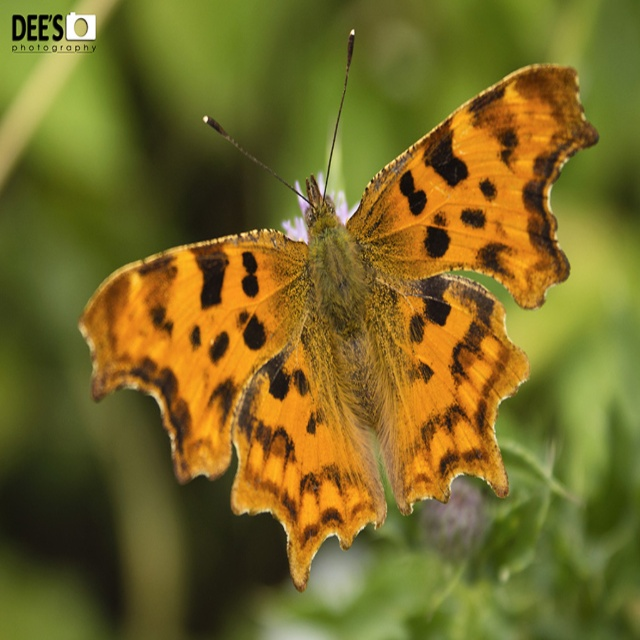Butterfly: (77, 30, 598, 588)
